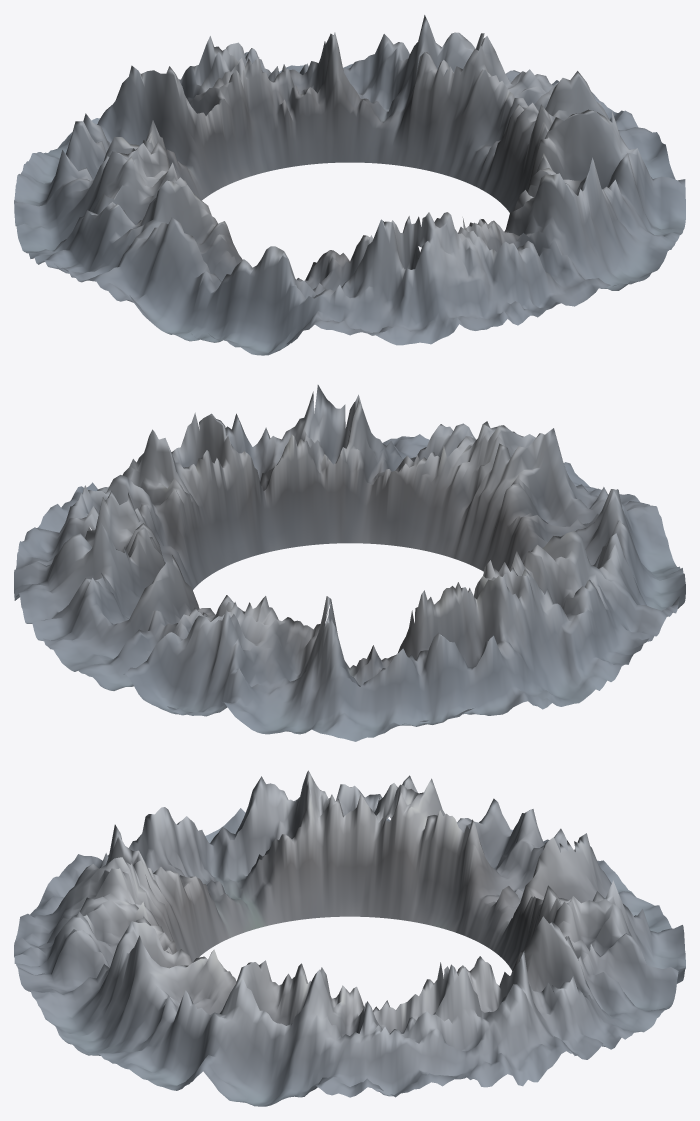
Rendered from mountains.glb.
The picture shows the model from 3 angles, top to bottom: view 1: azimuth 30°, elevation 25°; view 2: azimuth 150°, elevation 25°; view 3: azimuth 270°, elevation 25°; orthographic projection.
Visible parts, largest first — view 1: Mountains; view 2: Mountains; view 3: Mountains.
Part boxes in pixels (x1,y1,x2,y2): Mountains: [14, 15, 685, 355]; Mountains: [14, 385, 685, 741]; Mountains: [14, 770, 685, 1106].
Size of the model in its own units: 2500 by 499 by 2500.
